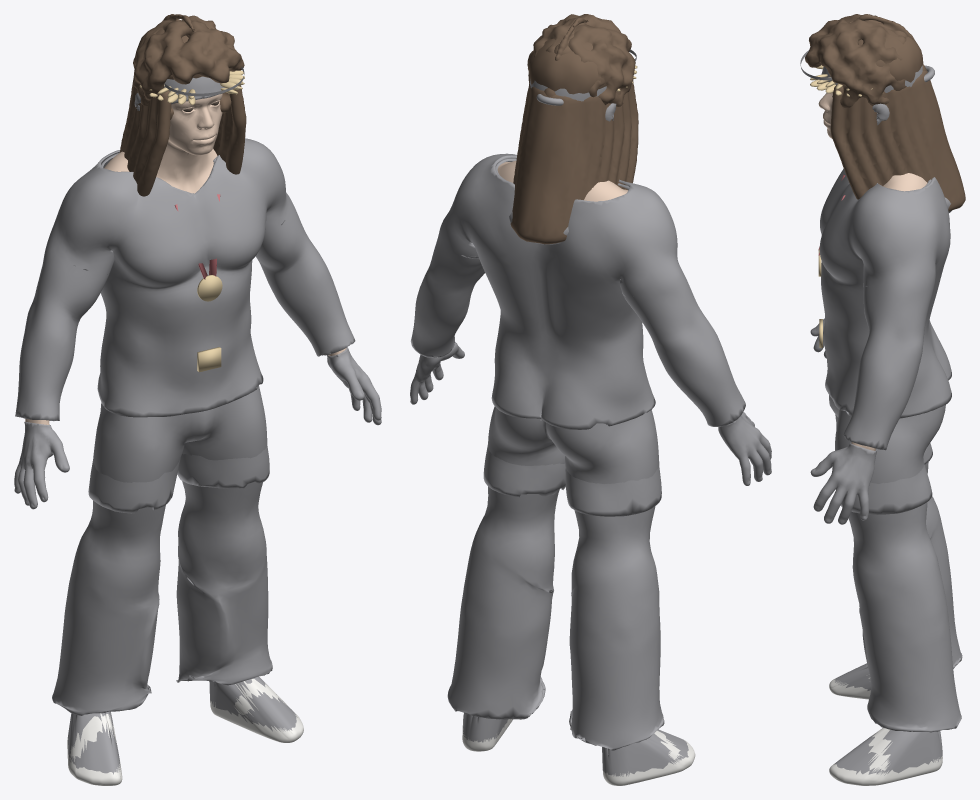
The model's file is character_m.glb.
The picture shows the model from 3 angles, left to right: view 1: azimuth 30°, elevation 25°; view 2: azimuth 150°, elevation 25°; view 3: azimuth 270°, elevation 25°; orthographic projection. The views are drawn at different scales.
Visible parts, largest first — view 1: top_hoodie, bottom_wide, shoes_lifters, hair_afro, hairtail_long, bottom_shorts, body, extra_gloves, head_beanie, head_laurel, extra_medal; view 2: top_hoodie, bottom_wide, hairtail_long, bottom_shorts, shoes_lifters, hair_afro, extra_gloves, hair_short, body; view 3: top_hoodie, bottom_wide, hairtail_long, hair_afro, shoes_lifters, extra_gloves, bottom_shorts, hair_short, body, head_laurel, head_beanie, hair_mohawk.
Part boxes in pixels (bbox=[...]): top_hoodie: bbox=[15, 138, 355, 421]; bottom_wide: bbox=[52, 385, 272, 715]; shoes_lifters: bbox=[67, 676, 303, 785]; hair_afro: bbox=[133, 15, 244, 119]; hairtail_long: bbox=[120, 72, 246, 196]; bottom_shorts: bbox=[88, 445, 269, 513]; body: bbox=[25, 93, 346, 424]; extra_gloves: bbox=[14, 347, 381, 509]; head_beanie: bbox=[134, 76, 224, 110]; head_laurel: bbox=[139, 70, 244, 105]; extra_medal: bbox=[174, 194, 222, 301]; top_hoodie: bbox=[410, 153, 745, 429]; bottom_wide: bbox=[447, 406, 664, 750]; hairtail_long: bbox=[510, 79, 638, 244]; bottom_shorts: bbox=[483, 445, 661, 516]; shoes_lifters: bbox=[462, 713, 695, 785]; hair_afro: bbox=[527, 14, 635, 106]; extra_gloves: bbox=[410, 342, 771, 485]; hair_short: bbox=[528, 38, 606, 94]; body: bbox=[497, 160, 627, 201]; top_hoodie: bbox=[819, 168, 952, 450]; bottom_wide: bbox=[829, 395, 962, 732]; hairtail_long: bbox=[830, 70, 965, 211]; hair_afro: bbox=[805, 14, 906, 108]; shoes_lifters: bbox=[829, 663, 942, 785]; extra_gloves: bbox=[810, 318, 876, 524]; bottom_shorts: bbox=[836, 424, 932, 514]; hair_short: bbox=[858, 30, 923, 82]; body: bbox=[818, 92, 927, 450]; head_laurel: bbox=[810, 65, 872, 96]; head_beanie: bbox=[821, 65, 922, 125]; hair_mohawk: bbox=[849, 14, 913, 39].
Size of the model in its own units: 0.8876 by 1.77 by 0.3662.
